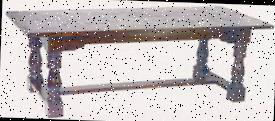Mesa: (2, 1, 274, 120)
